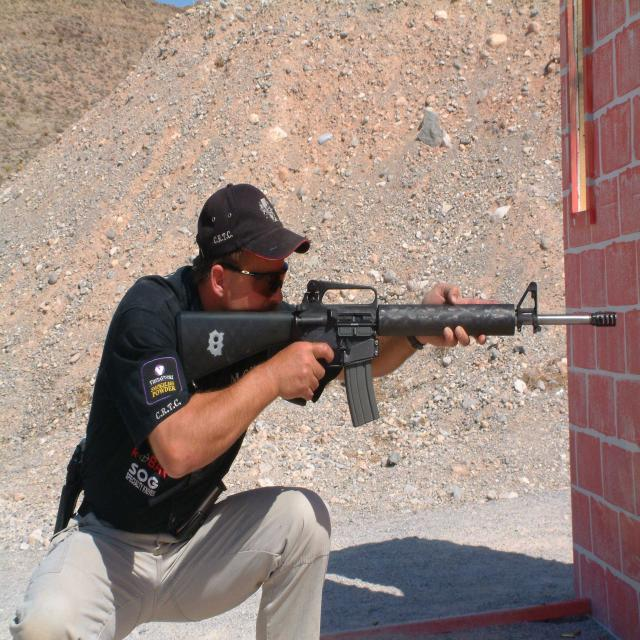heavyweapon: (161, 248, 629, 444)
